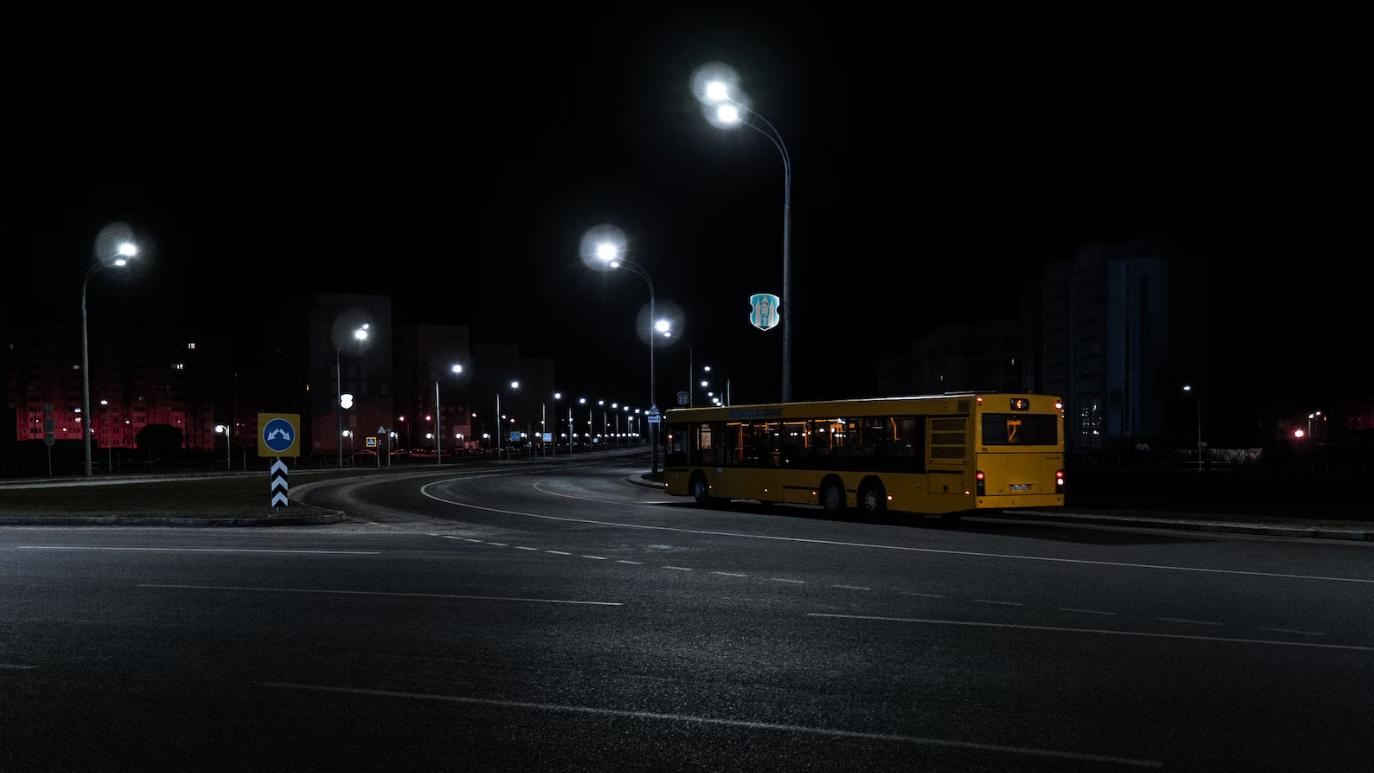vehicle: (659, 389, 1065, 519)
